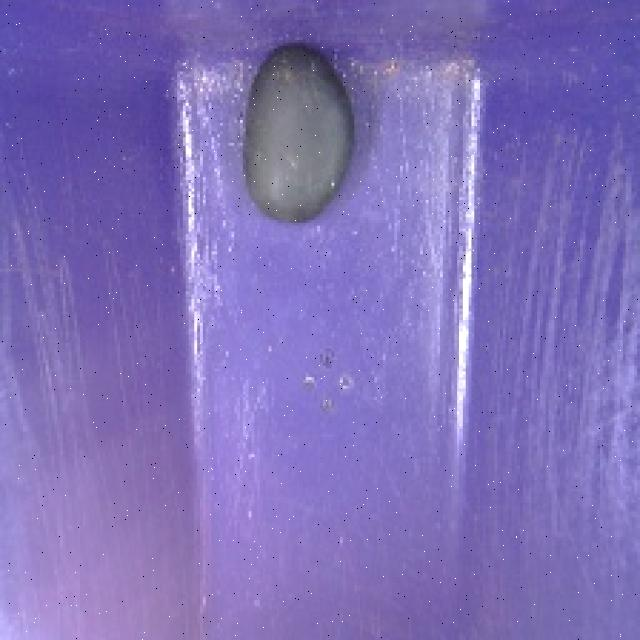cobbles: (230, 37, 364, 233)
